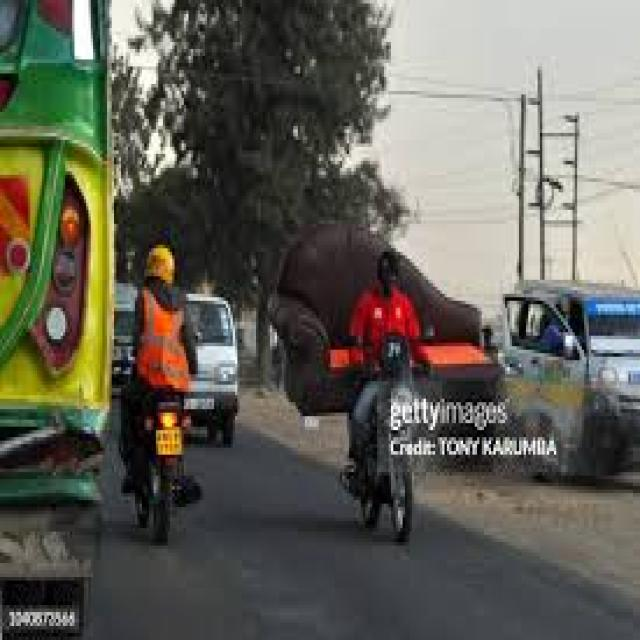bodaboda: (112, 388, 215, 538), (370, 408, 426, 536)
bus: (0, 0, 109, 640)
